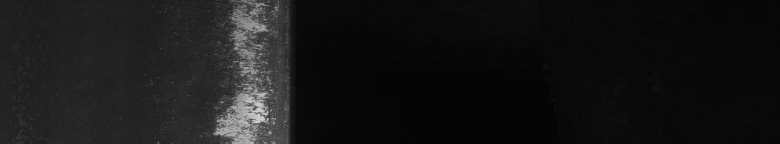kb: (224, 4, 279, 136)
